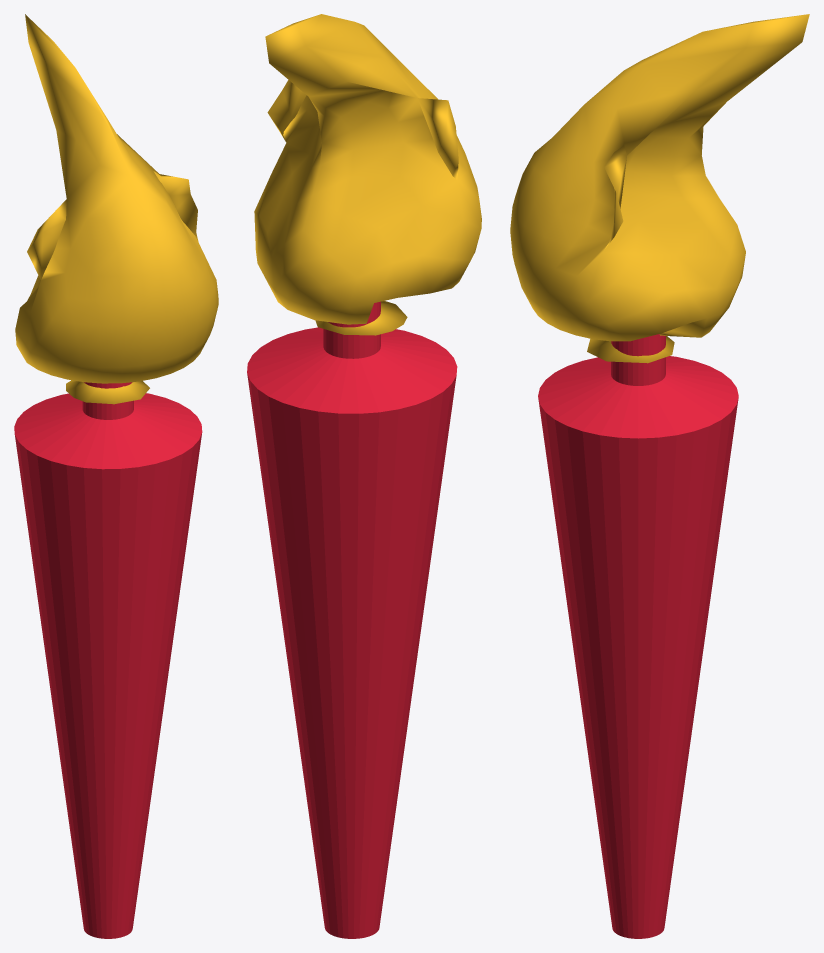
Rendered from paintbrush.fbx.
The picture shows the model from 3 angles, left to right: view 1: azimuth 30°, elevation 25°; view 2: azimuth 150°, elevation 25°; view 3: azimuth 270°, elevation 25°; orthographic projection. The views are drawn at different scales.
Visible parts, largest first — view 1: Sphere.019; view 2: Sphere.019; view 3: Sphere.019.
Part boxes in pixels (box(x1,y1,x2,y2)): Sphere.019: box(14, 14, 218, 938); Sphere.019: box(247, 14, 481, 938); Sphere.019: box(510, 14, 809, 938).
Bounding box in the file's own units: 34.97 × 160 × 47.64.
